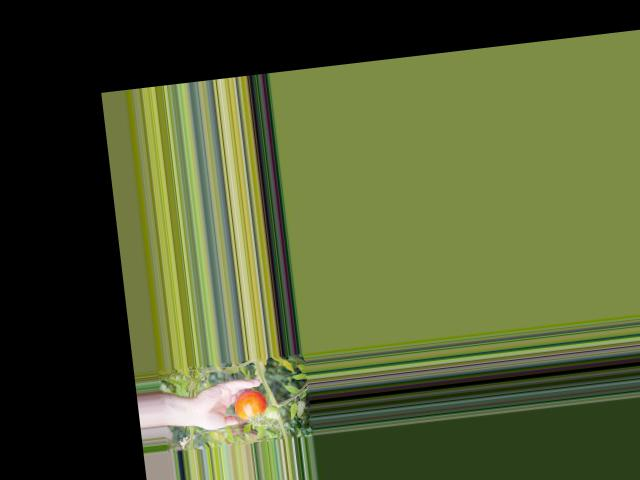tomato: (232, 388, 269, 421)
